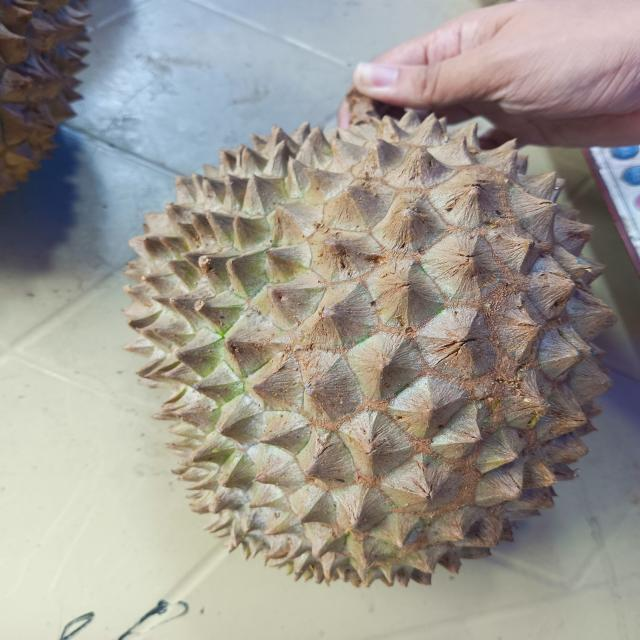mature: (86, 88, 638, 609)
